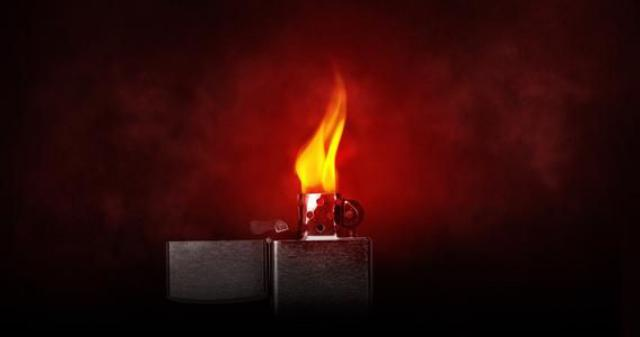fire: (293, 146, 333, 189), (312, 120, 341, 146), (325, 86, 345, 118)
